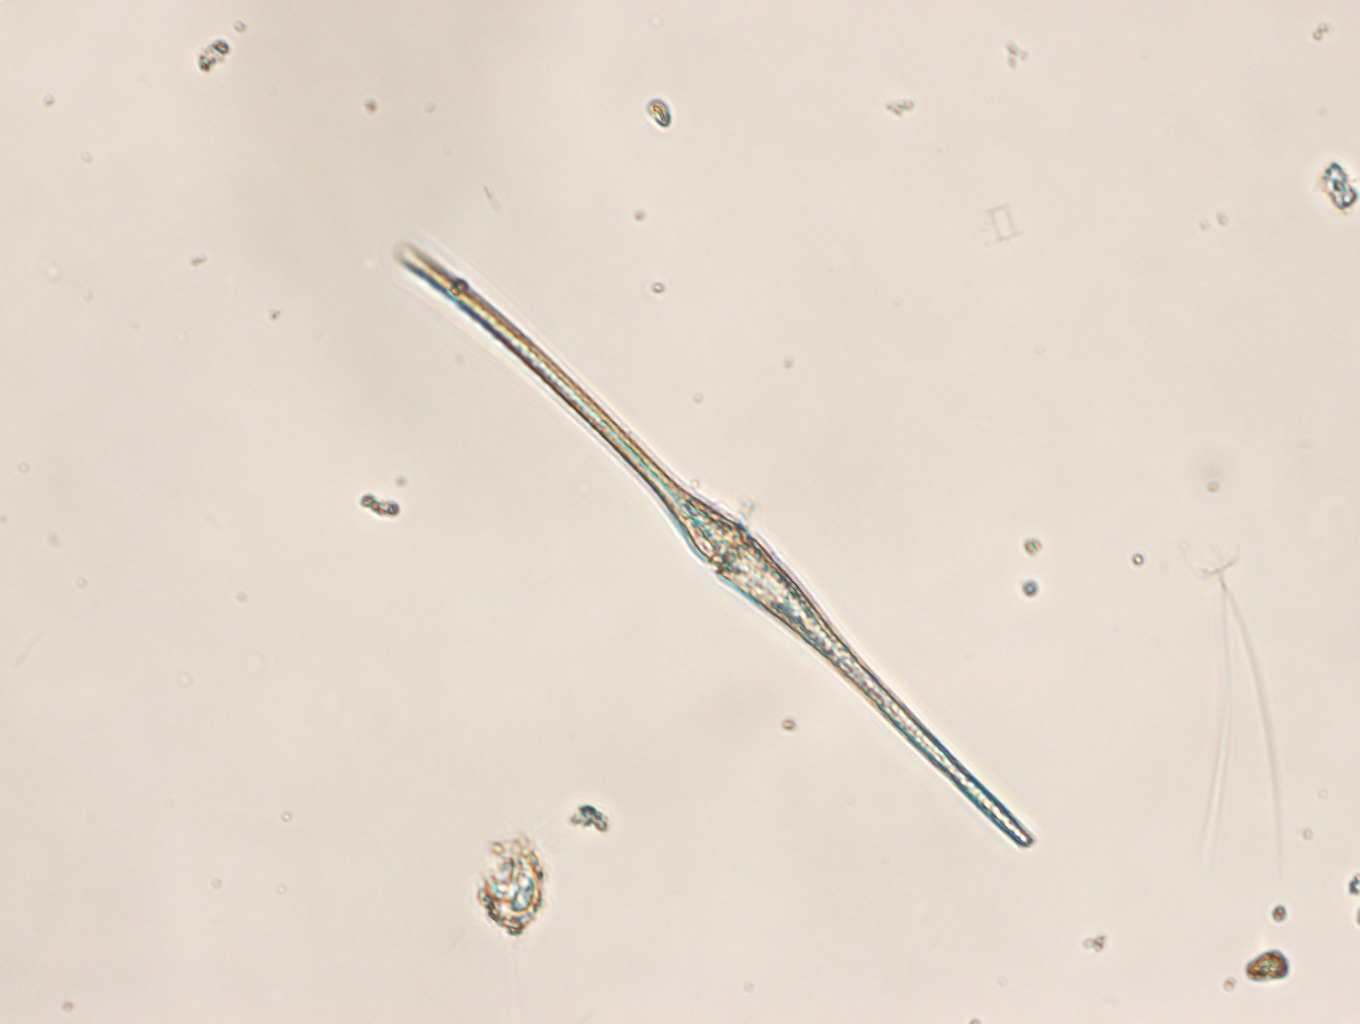ceratium fusus: (390, 243, 1033, 850)
